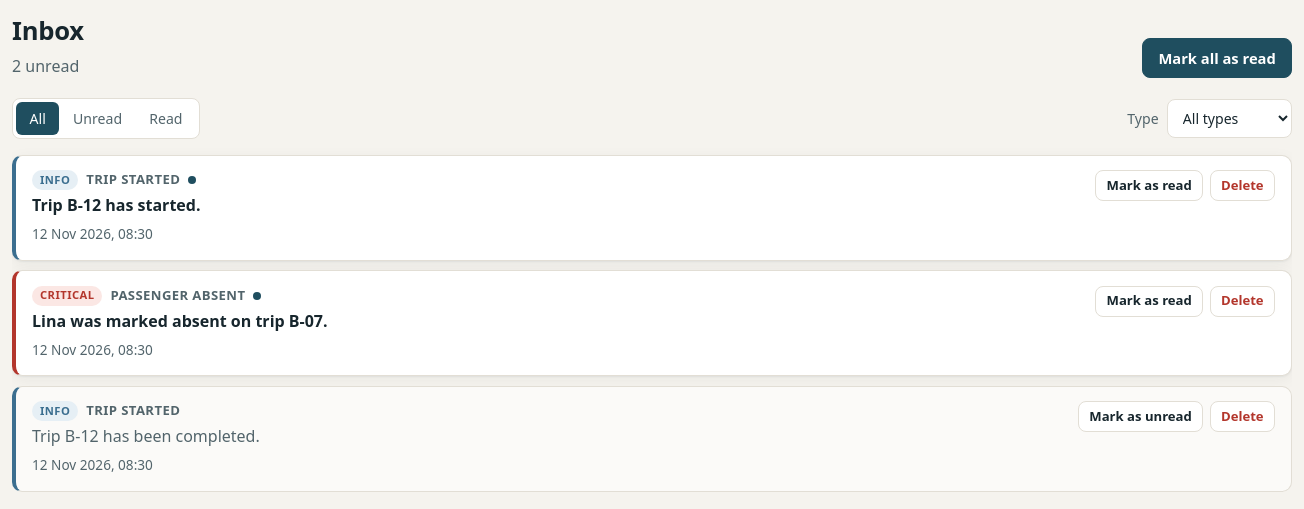
Scenario: NotificationsPage › marks a notification as read in place
The width and height of the screenshot is (1304, 509).
Step 1. Click the button "Mark as read" in the row of "Trip B-12 has started." → (1149, 186), box x1=1095 y1=170 x2=1203 y2=201
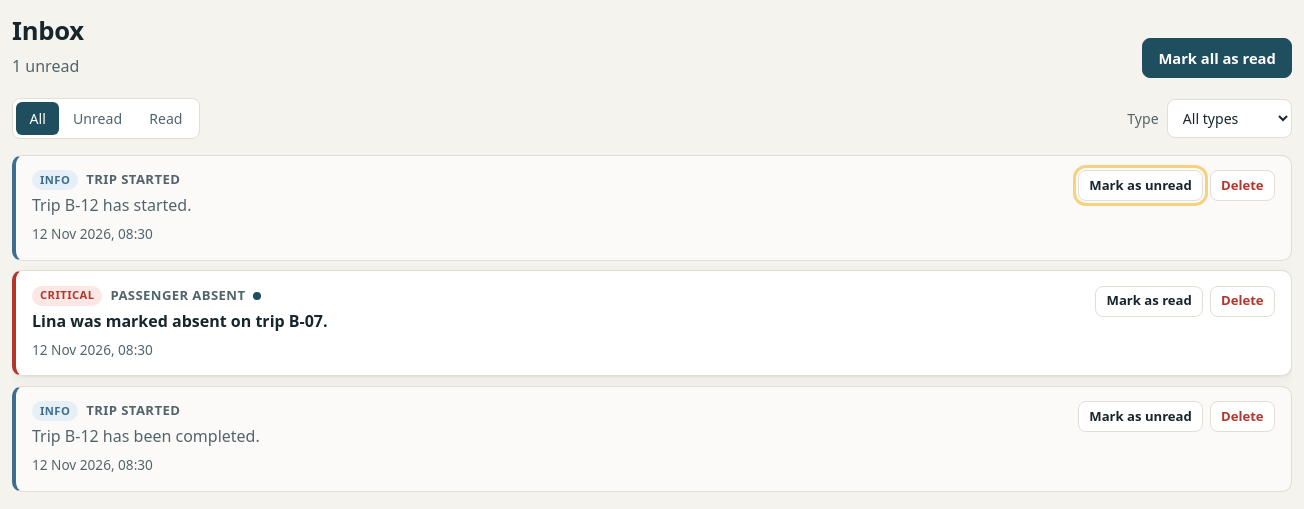
Now the button "Mark as unread" in the row of "Trip B-12 has started." is shown, box x1=1078 y1=170 x2=1203 y2=201
Now the text "1 unread" is shown, box x1=12 y1=54 x2=84 y2=78
